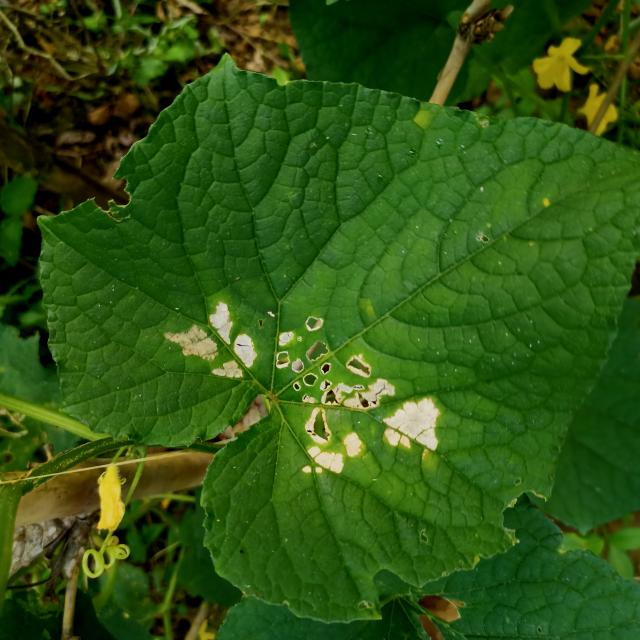disease_cucumber: (273, 304, 444, 494), (164, 290, 266, 392)
